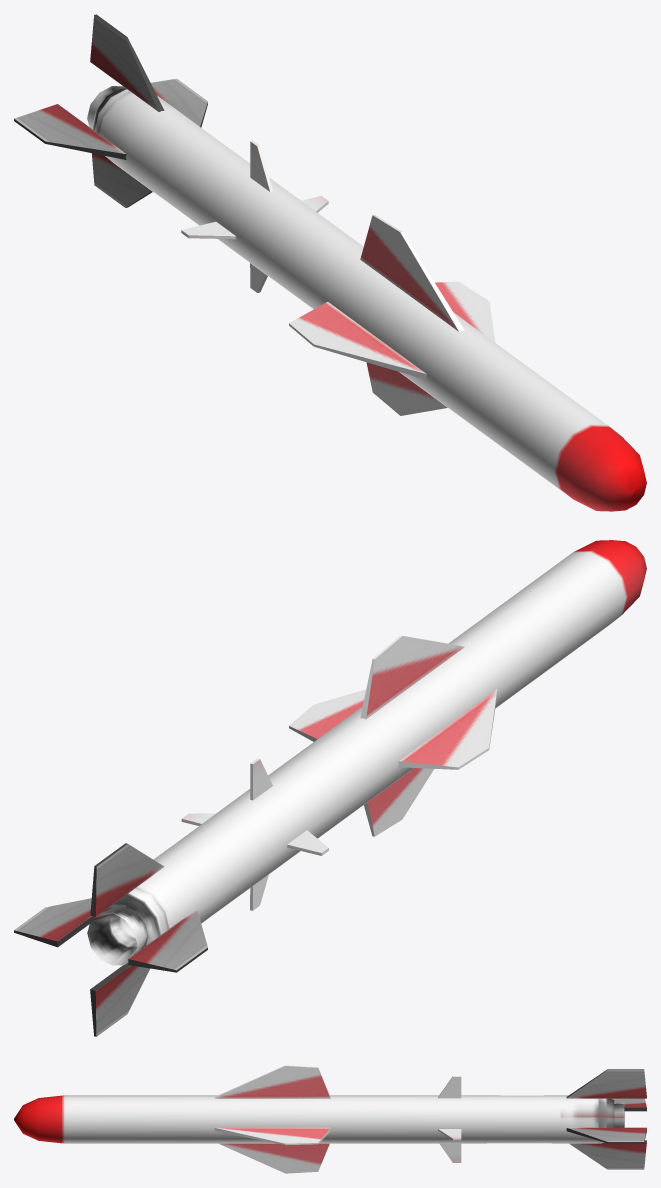
The model's file is Missile_3.FBX.
3 views of the same model, one above another, from view 1: azimuth 30°, elevation 25°; view 2: azimuth 150°, elevation 25°; view 3: azimuth 270°, elevation 25° (orthographic). The views are drawn at different scales.
Parts seen in each view (by area): view 1: daodan_3; view 2: daodan_3; view 3: daodan_3.
Part boxes in pixels (box(x1,y1,x2,y2)): daodan_3: box(14, 14, 646, 511); daodan_3: box(14, 540, 646, 1036); daodan_3: box(14, 1065, 646, 1173).
Bounding box in the file's own units: 211 × 211 × 1122.
Materials: 3 (3 with a texture image).
